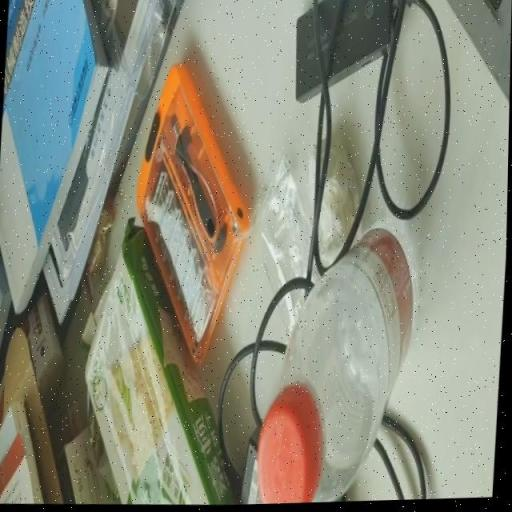plastic: (259, 231, 415, 506)
